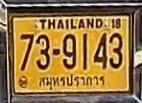1: (82, 33, 86, 69)
3: (35, 34, 49, 69), (109, 32, 122, 68)
4: (93, 32, 106, 68)
7: (20, 33, 34, 70)
9: (62, 33, 75, 68)
SPK: (37, 73, 107, 89)
